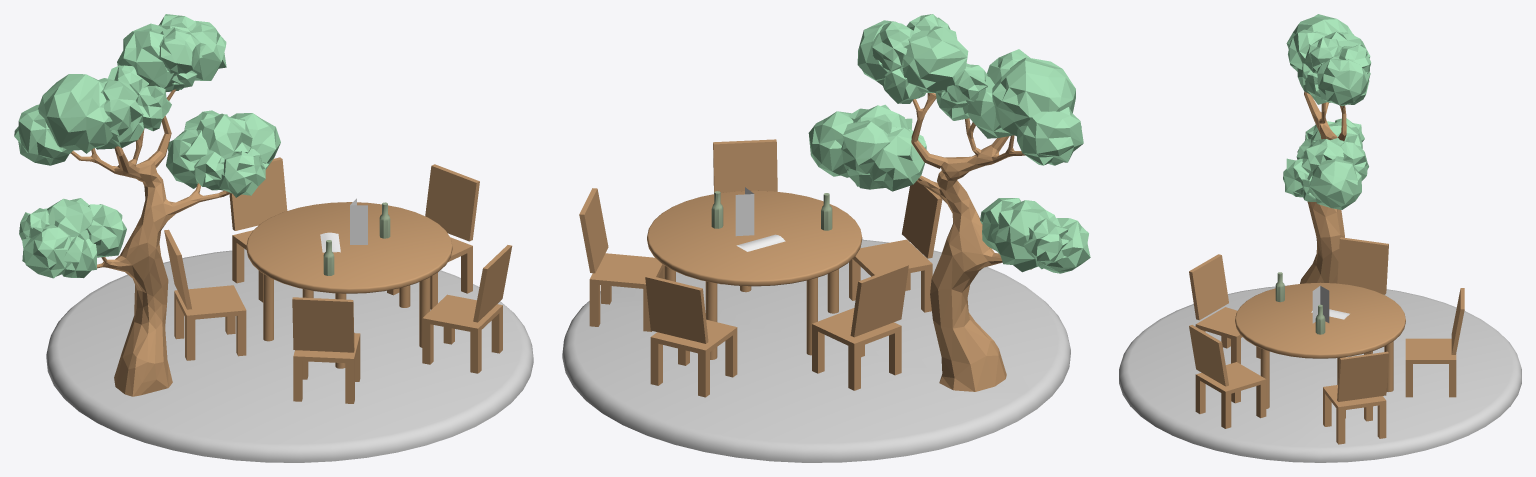
File: GLB_TEST_SCENE.glb
3 views of the same model, side by side, from view 1: azimuth 30°, elevation 25°; view 2: azimuth 150°, elevation 25°; view 3: azimuth 270°, elevation 25° (orthographic). The views are drawn at different scales.
Parts seen in each view (by area): view 1: BASE, Tree_01_leaves.001, CHAIRS, TABLE TOP, Tree, LEGS, MENU.1; view 2: BASE, Tree_01_leaves.001, CHAIRS, TABLE TOP, Tree, LEGS, MENU.1; view 3: BASE, CHAIRS, Tree_01_leaves.001, TABLE TOP, Tree, LEGS, MENU.1.
Boxes of the visible parts, x1,y1,x2,y2 form: BASE: (46, 249, 533, 462); Tree_01_leaves.001: (14, 14, 280, 278); CHAIRS: (164, 157, 512, 403); TABLE TOP: (246, 202, 452, 293); Tree: (70, 89, 230, 396); LEGS: (263, 274, 430, 368); MENU.1: (350, 198, 367, 244); BASE: (562, 239, 1070, 462); Tree_01_leaves.001: (808, 14, 1090, 273); CHAIRS: (579, 139, 942, 397); TABLE TOP: (647, 190, 862, 286); Tree: (911, 93, 1032, 391); LEGS: (664, 266, 838, 359); MENU.1: (735, 187, 754, 236); BASE: (1119, 285, 1521, 462); CHAIRS: (1189, 237, 1464, 444); Tree_01_leaves.001: (1283, 14, 1371, 209); TABLE TOP: (1235, 282, 1405, 358); Tree: (1300, 91, 1346, 283); LEGS: (1260, 341, 1393, 418); MENU.1: (1312, 285, 1329, 323).
Size of what is drawn, in the model's own units: 1798 by 1289 by 1596.
